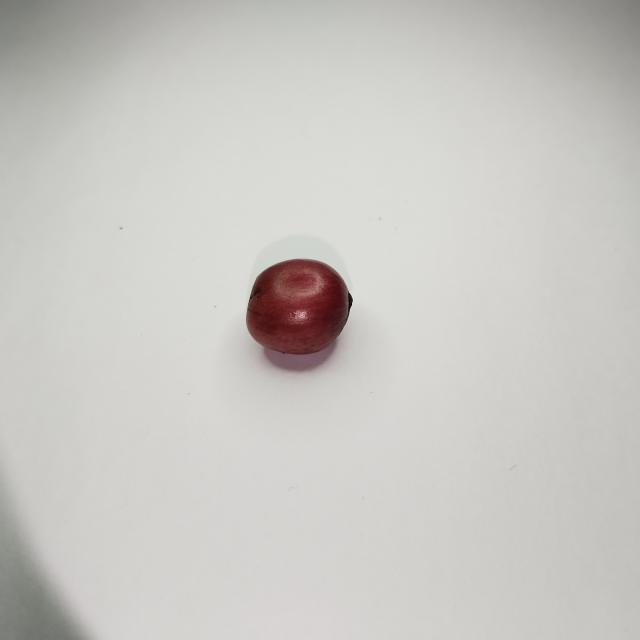Sano: (247, 258, 352, 356)
